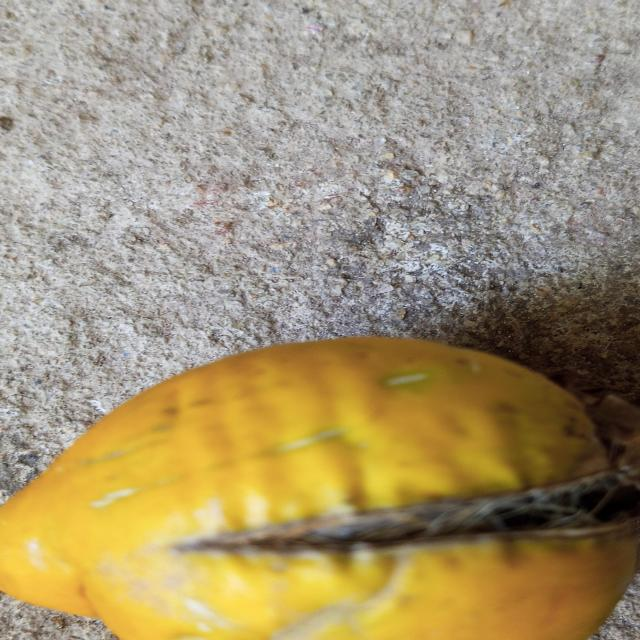damaged: (0, 336, 640, 640)
